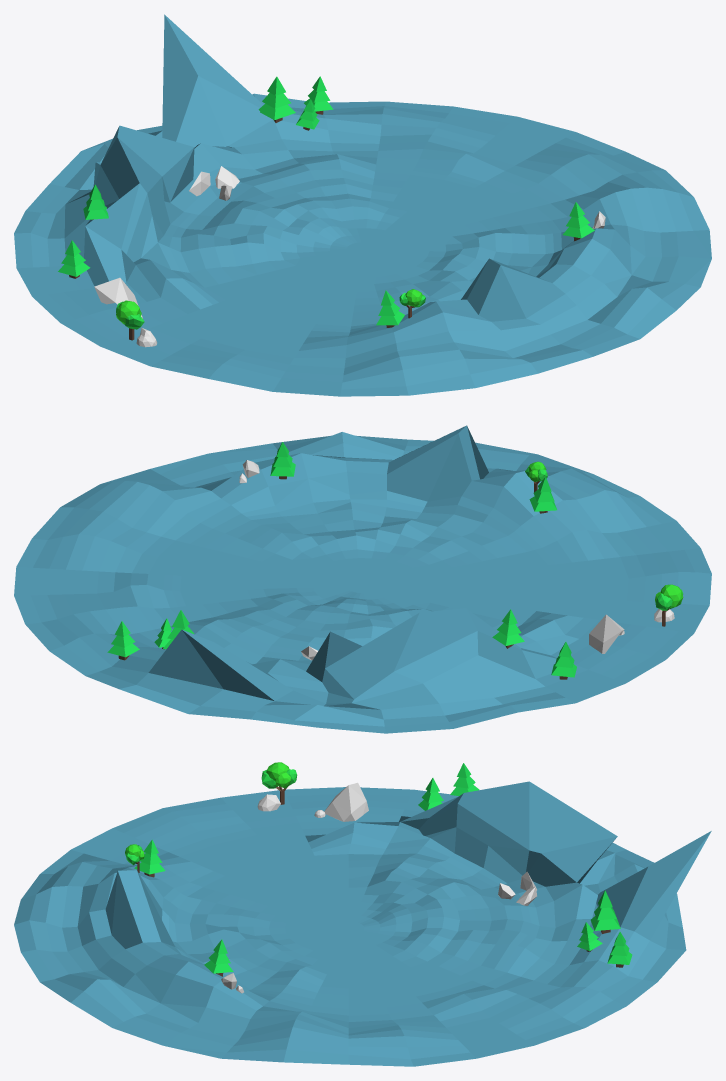
Rendered from terrain-transformed.glb.
3 views of the same model, one above another, from view 1: azimuth 30°, elevation 25°; view 2: azimuth 150°, elevation 25°; view 3: azimuth 270°, elevation 25° (orthographic). The views are drawn at different scales.
Parts seen in each view (by area): view 1: Circle, Cube.002, Icosphere.005, Icosphere.009, Cube.004, Cube.005, Cube.006; view 2: Circle, Icosphere.005, Icosphere.009, Cube, Cube.003, Cube.005, Cube.006, Cube.004; view 3: Circle, Icosphere.005, Icosphere.009, Cube.002, Cube.006, Cube.005, Cube.
Part boxes in pixels (x1,y1,x2,y2): Circle: (14, 14, 711, 396); Cube.002: (258, 76, 295, 122); Icosphere.005: (94, 277, 138, 305); Icosphere.009: (116, 300, 144, 340); Cube.004: (58, 240, 90, 278); Cube.005: (563, 202, 594, 241); Cube.006: (376, 290, 404, 327); Circle: (14, 425, 711, 733); Icosphere.005: (589, 614, 624, 653); Icosphere.009: (655, 584, 683, 626); Cube: (107, 621, 139, 660); Cube.003: (492, 609, 524, 648); Cube.005: (270, 442, 295, 479); Cube.006: (529, 477, 556, 513); Cube.004: (551, 642, 576, 679); Circle: (14, 781, 711, 1066); Icosphere.005: (324, 782, 368, 821); Icosphere.009: (261, 762, 297, 804); Cube.002: (590, 890, 620, 933); Cube.006: (134, 839, 165, 877); Cube.005: (204, 939, 233, 976); Cube: (607, 932, 632, 967).
Bounding box in the file's own units: 2 × 0.3335 × 2.08.
